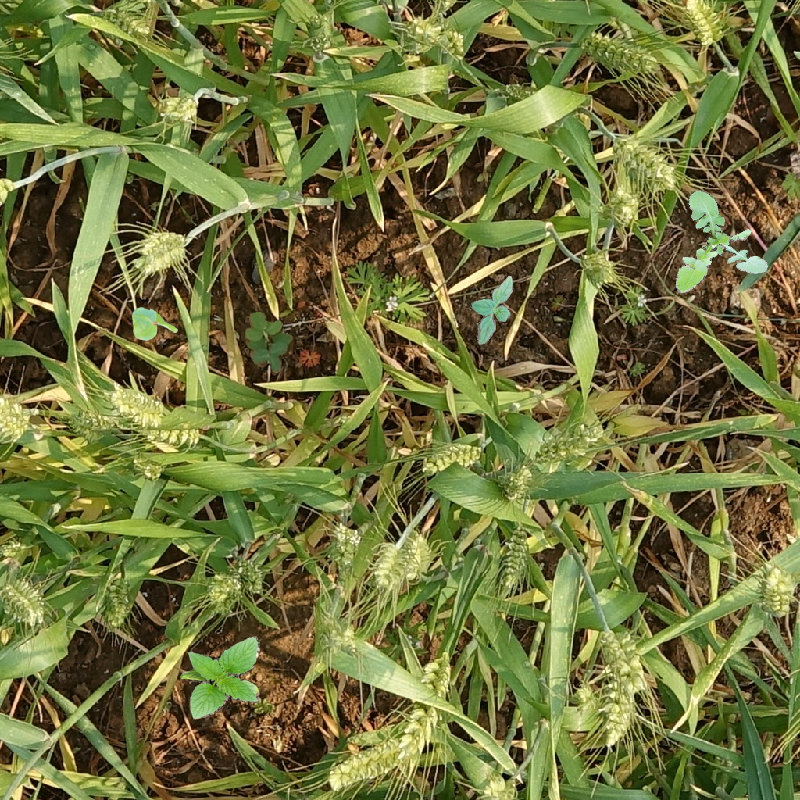spikelet: (397, 655, 455, 764), (325, 737, 401, 792), (611, 132, 679, 192), (532, 418, 606, 472), (581, 29, 660, 75), (598, 627, 647, 692), (134, 228, 188, 276), (109, 384, 169, 425), (598, 680, 635, 746), (396, 705, 435, 767), (419, 440, 485, 476), (1, 576, 47, 627), (497, 529, 532, 591), (99, 570, 134, 630), (758, 565, 796, 617), (683, 1, 726, 46), (371, 539, 407, 592), (397, 14, 443, 54), (103, 3, 153, 39), (300, 11, 336, 57), (67, 407, 116, 439), (145, 420, 202, 447), (326, 521, 360, 566), (319, 617, 359, 655), (1, 392, 32, 441), (403, 531, 434, 580), (579, 248, 618, 286), (206, 570, 243, 610), (605, 186, 641, 227), (156, 90, 199, 124), (499, 462, 535, 500), (422, 653, 453, 696), (233, 555, 266, 595), (125, 449, 164, 481), (479, 774, 518, 799), (1, 535, 31, 564), (439, 27, 465, 58)
weed: (660, 180, 771, 295), (180, 636, 260, 720), (346, 258, 432, 331), (459, 274, 531, 346), (245, 312, 294, 374), (132, 307, 178, 341)
